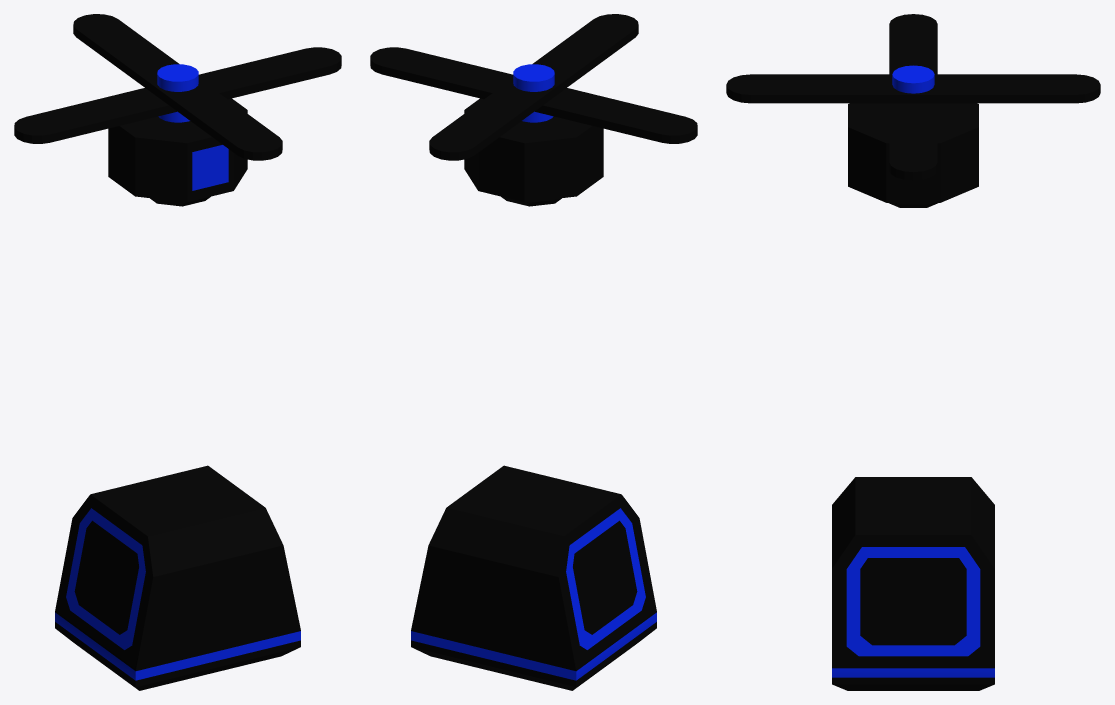
The model's file is Attachment_Crasher.fbx.
3 renders of one model, left to right at view 1: azimuth 30°, elevation 25°; view 2: azimuth 150°, elevation 25°; view 3: azimuth 270°, elevation 25°, orthographic.
Visible parts, largest first — view 1: Crasher, Propeller, Attachment_Crasher; view 2: Crasher, Propeller, Attachment_Crasher; view 3: Crasher, Propeller, Attachment_Crasher.
Boxes of the visible parts, x1,y1,x2,y2 form: Crasher: (55, 465, 300, 690); Propeller: (14, 14, 341, 160); Attachment_Crasher: (108, 64, 247, 206); Crasher: (411, 465, 656, 690); Propeller: (370, 14, 697, 160); Attachment_Crasher: (464, 64, 603, 206); Crasher: (832, 477, 994, 690); Propeller: (726, 14, 1100, 180); Attachment_Crasher: (848, 65, 978, 207).
Bounding box in the file's own units: 2 × 3.43 × 2.
